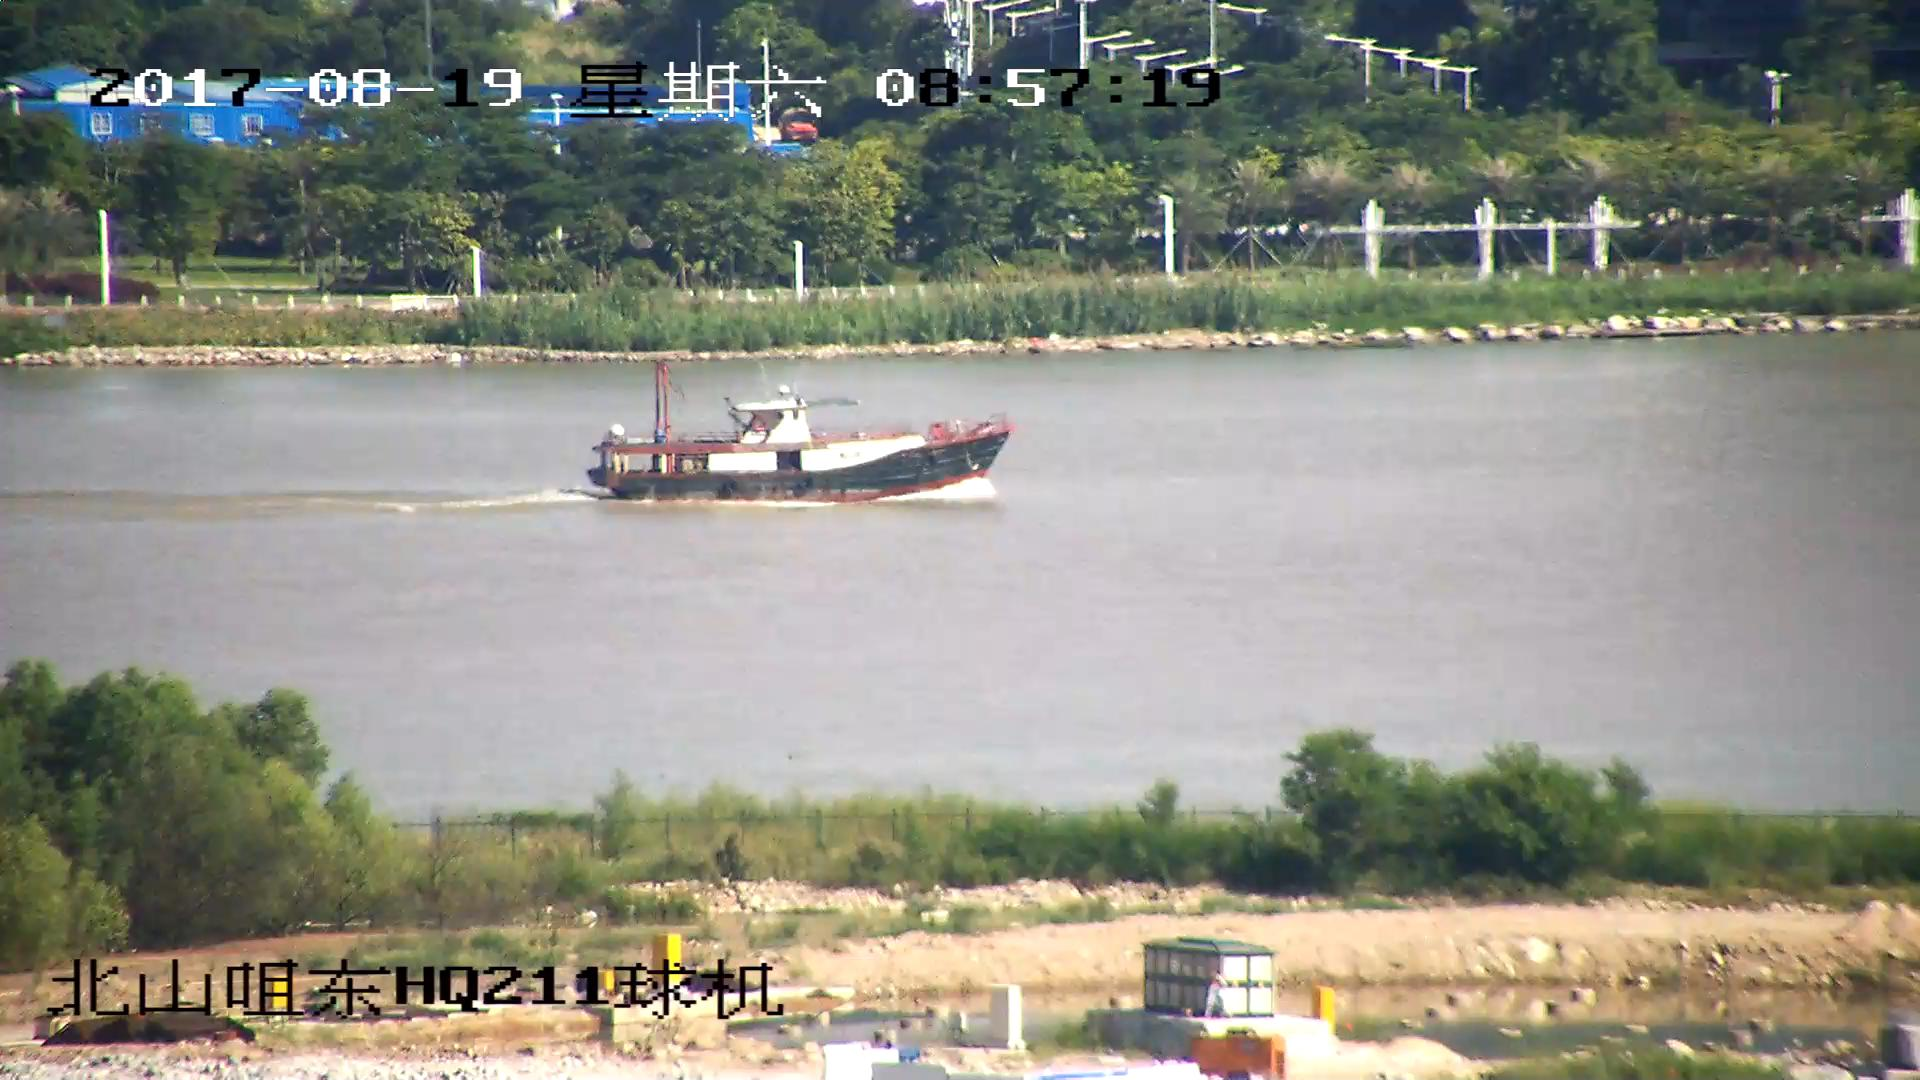fishing boat: (582, 356, 1014, 506)
